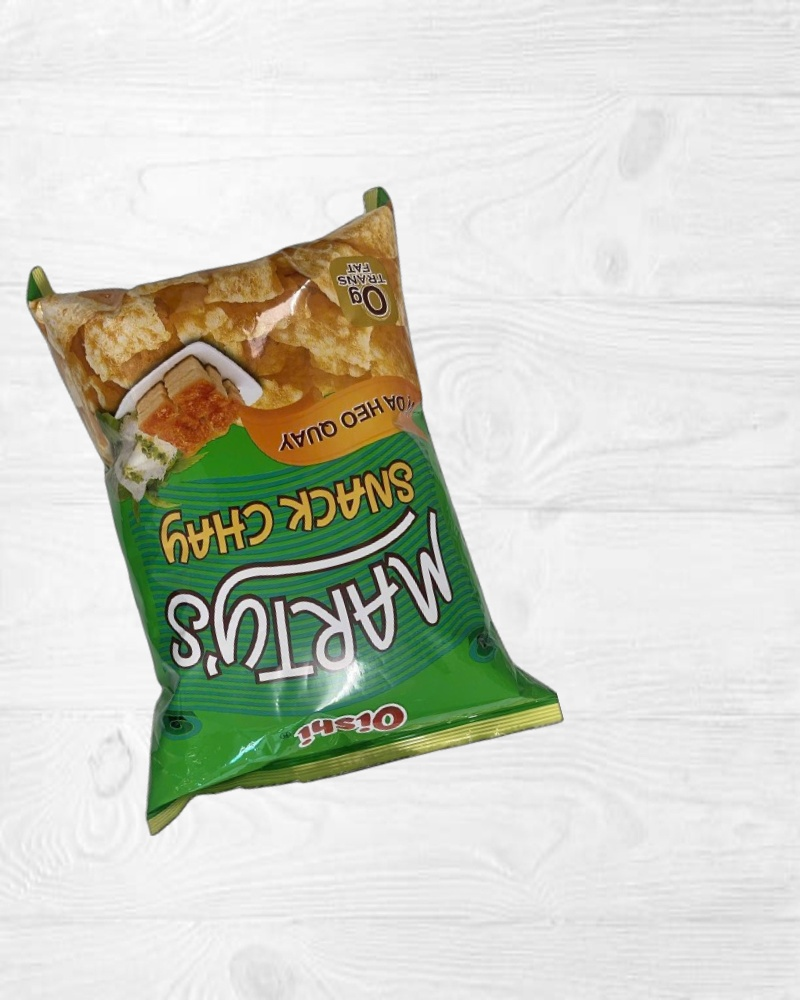Snack chay: (22, 167, 565, 831)
